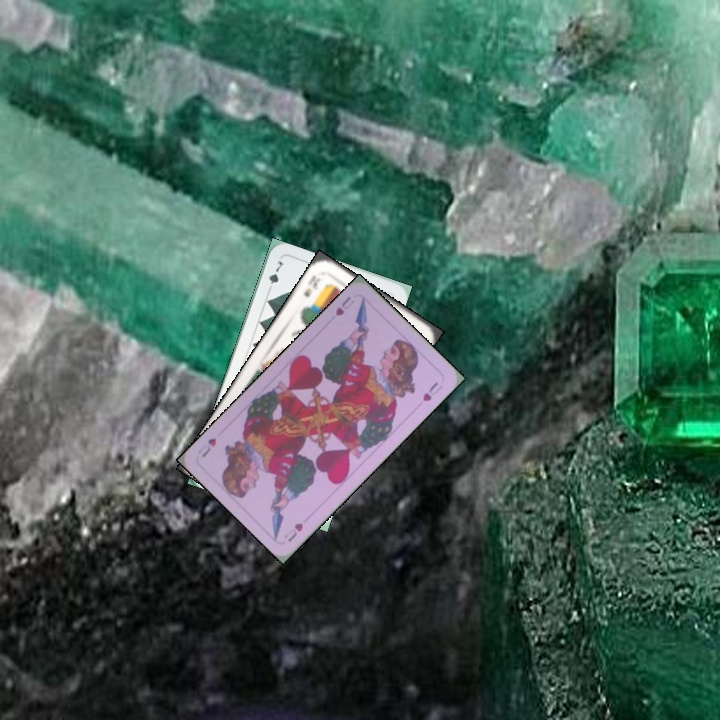EK: (299, 270, 323, 300)
G7: (264, 257, 287, 295)
HU: (331, 292, 357, 318), (280, 519, 306, 544)
